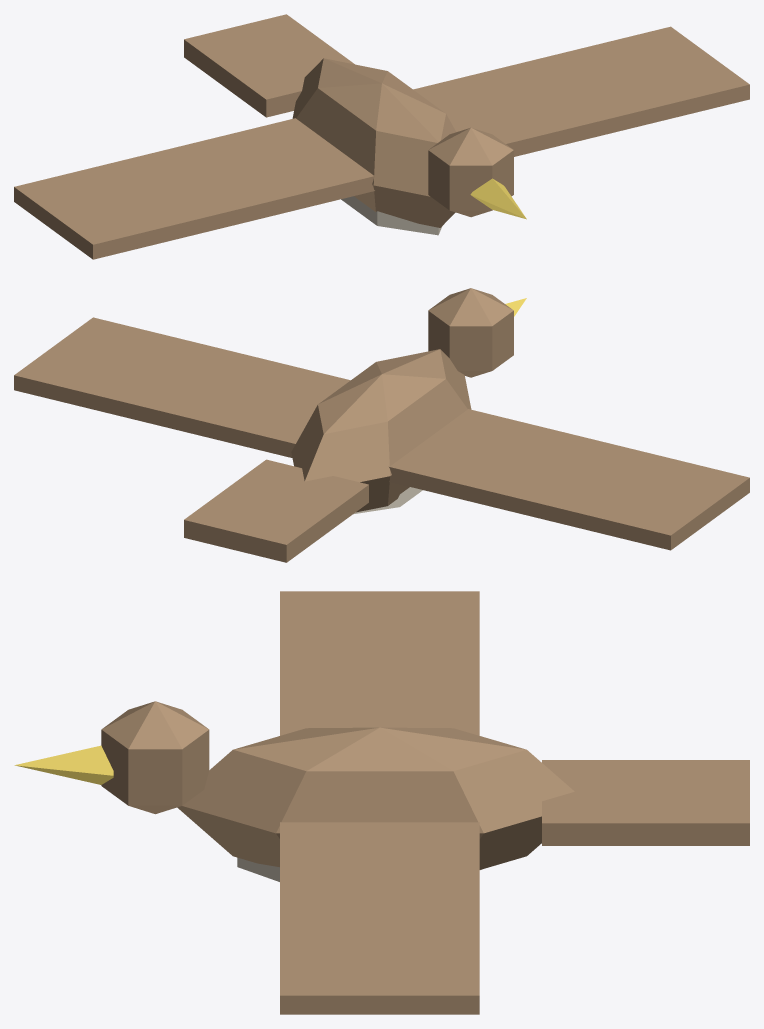
File: hawk.glb
3 views of the same model, one above another, from view 1: azimuth 30°, elevation 25°; view 2: azimuth 150°, elevation 25°; view 3: azimuth 270°, elevation 25° (orthographic). The views are drawn at different scales.
Parts seen in each view (by area): view 1: hawk, wing_l.001, wing_r.001; view 2: hawk, wing_l.001, wing_r.001; view 3: hawk, wing_r.001, wing_l.001.
Boxes of the visible parts, x1,y1,x2,y2 form: hawk: (184,14,526,235); wing_l.001: (14,118,374,259); wing_r.001: (413,26,749,156); hawk: (184,288,526,562); wing_l.001: (389,409,749,550); wing_r.001: (14,317,350,457); hawk: (14,701,749,881); wing_r.001: (280,822,479,1014); wing_l.001: (280,591,479,735).
Size of the model in its own units: 1.95 by 0.4165 by 1.5.
